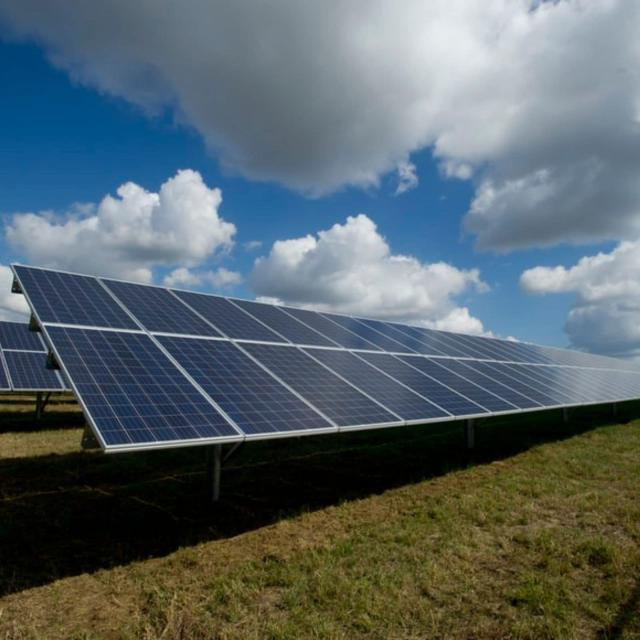clean-solar-panel: (12, 265, 640, 452)
